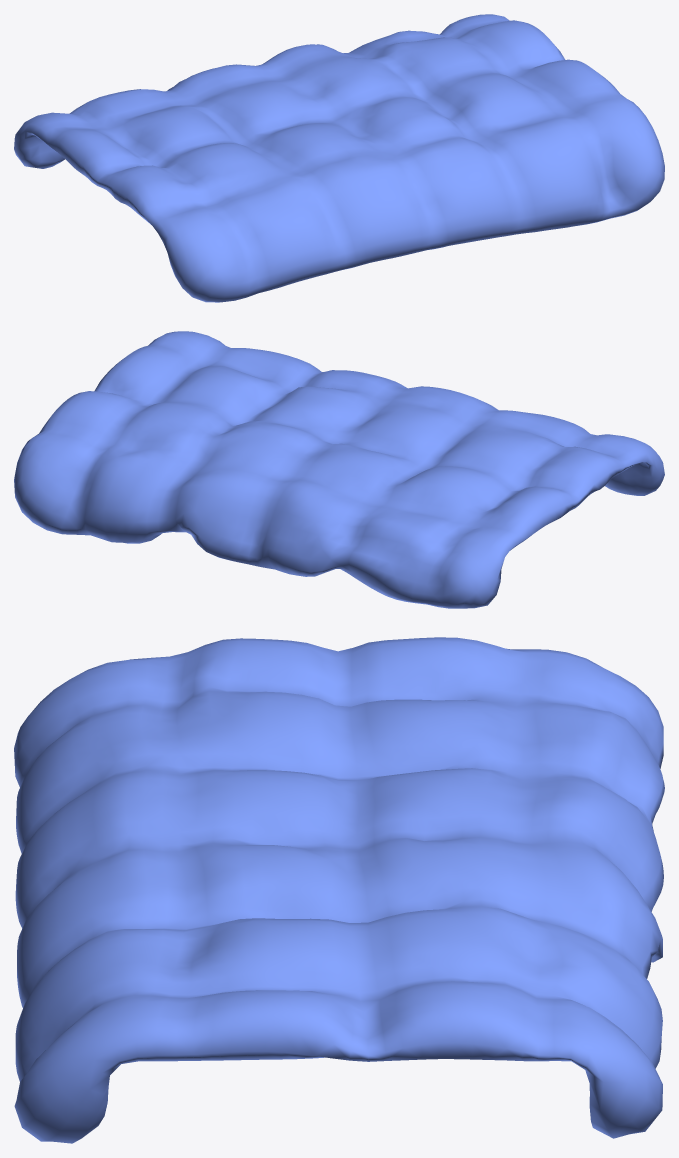
Rendered from SM_blanket_low.fbx.
The picture shows the model from 3 angles, top to bottom: view 1: azimuth 30°, elevation 25°; view 2: azimuth 150°, elevation 25°; view 3: azimuth 270°, elevation 25°; orthographic projection. The views are drawn at different scales.
Visible parts, largest first — view 1: blanket2; view 2: blanket2; view 3: blanket2.
Part boxes in pixels (x1,y1,x2,y2): blanket2: (14, 14, 664, 302); blanket2: (14, 331, 664, 608); blanket2: (14, 637, 664, 1143).
Bounding box in the file's own units: 296 × 55.02 × 207.
